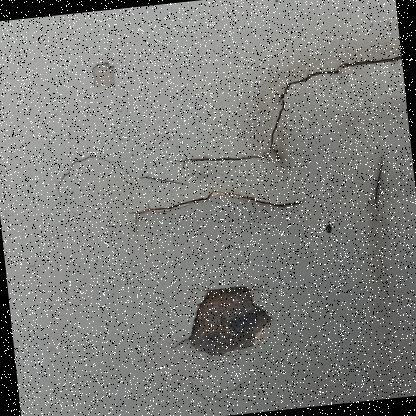Crack: (17, 17, 415, 415)
